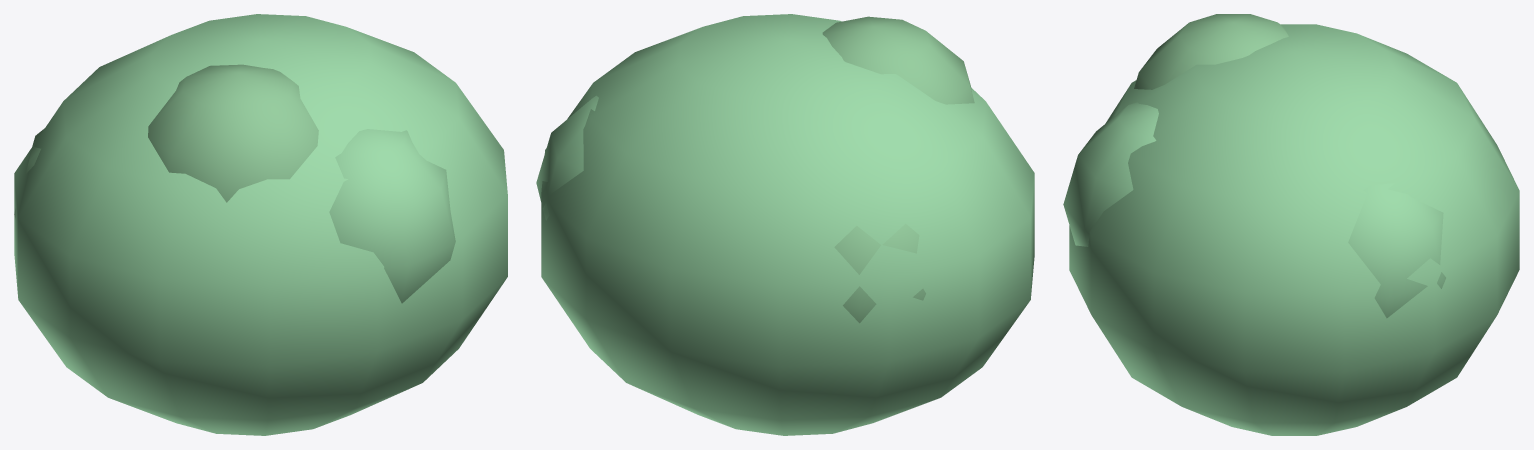
File: cozy_bush_round_A.glb
The picture shows the model from 3 angles, left to right: view 1: azimuth 30°, elevation 25°; view 2: azimuth 150°, elevation 25°; view 3: azimuth 270°, elevation 25°; orthographic projection. The views are drawn at different scales.
Visible parts, largest first — view 1: Core, Lump3, Lump2; view 2: Core, Lump3, Lump0, Lump1; view 3: Core, Lump0, Lump2, Lump3.
Part boxes in pixels (x1,y1,x2,y2): Core: (14, 14, 507, 435); Lump3: (148, 64, 318, 202); Lump2: (329, 129, 455, 303); Core: (541, 14, 1034, 435); Lump3: (822, 16, 974, 104); Lump0: (536, 95, 598, 220); Lump1: (834, 223, 925, 323); Core: (1069, 24, 1519, 435); Lump0: (1348, 183, 1445, 318); Lump2: (1063, 102, 1158, 246); Lump3: (1134, 14, 1288, 89).
Size of the model in its own units: 0.7946 by 0.653 by 0.7505.
